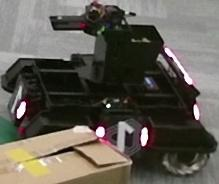armor_1: (97, 126, 148, 147)
light: (165, 47, 193, 85)
